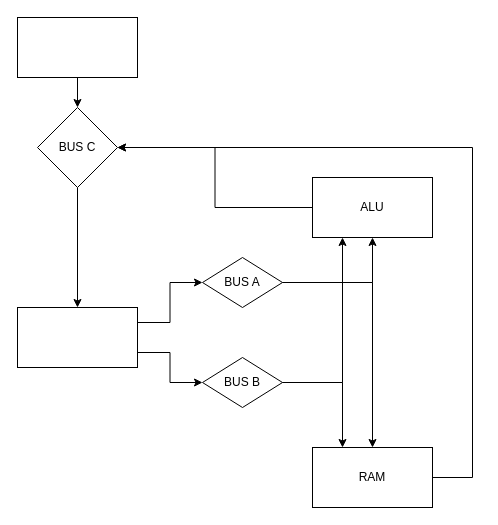
This 498x525 diagram has some shape labels left out. Each missing label, with the box of its shape:
BANCO REGISTROS: (16, 306, 138, 368)
ROM: (16, 16, 138, 78)
